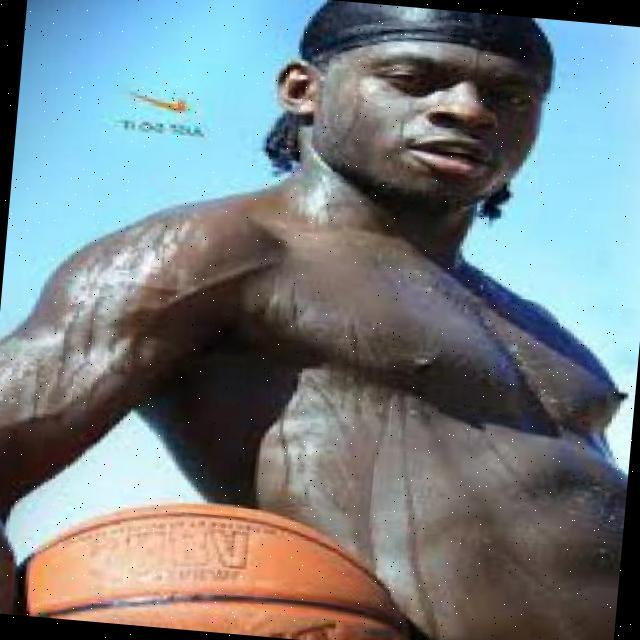Nike: (125, 85, 201, 113)
